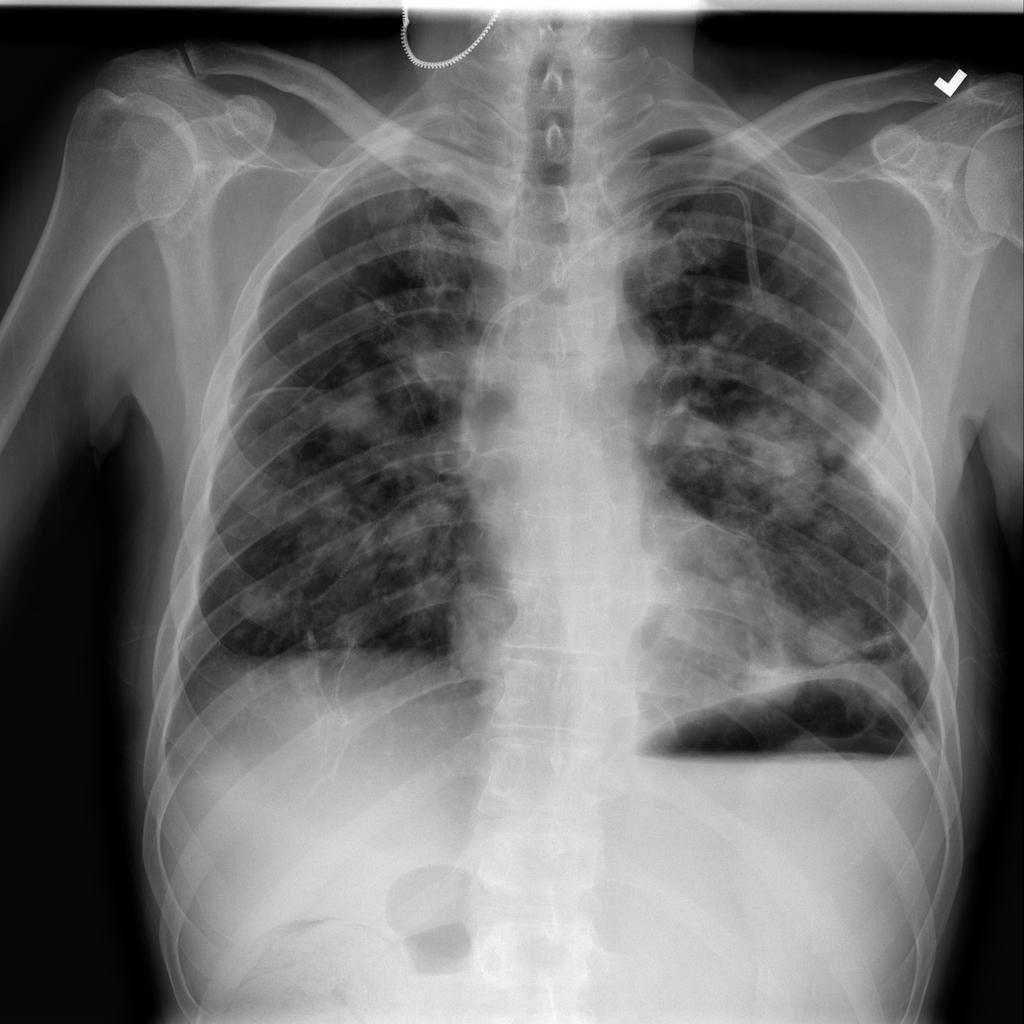nodule: (729, 404, 851, 532), (720, 627, 825, 735), (795, 600, 879, 674), (382, 487, 461, 562), (721, 274, 805, 343), (225, 568, 306, 639), (311, 379, 388, 450)
